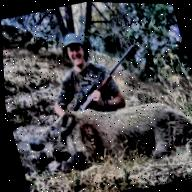boar: (17, 75, 192, 192)
